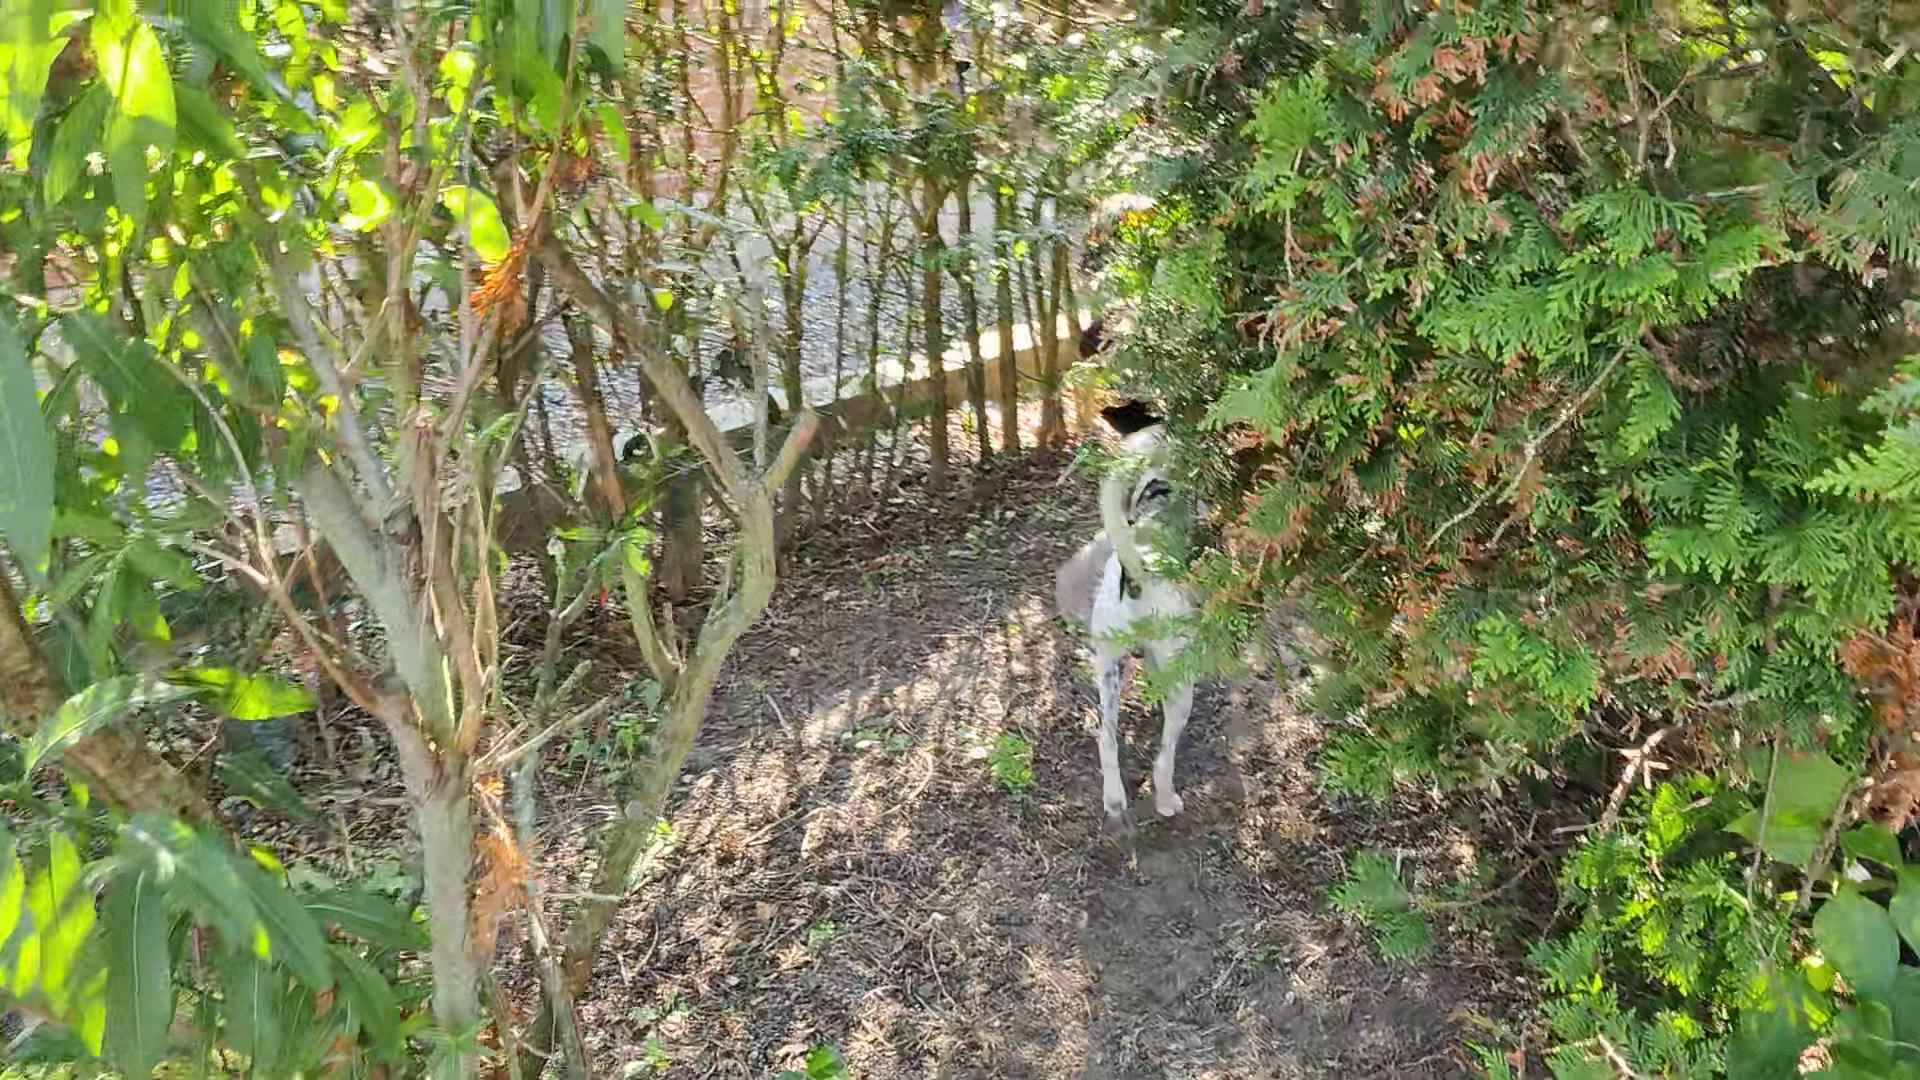Dog: (1067, 338, 1217, 824)
